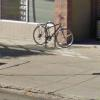Bicycle: (27, 13, 76, 51)
